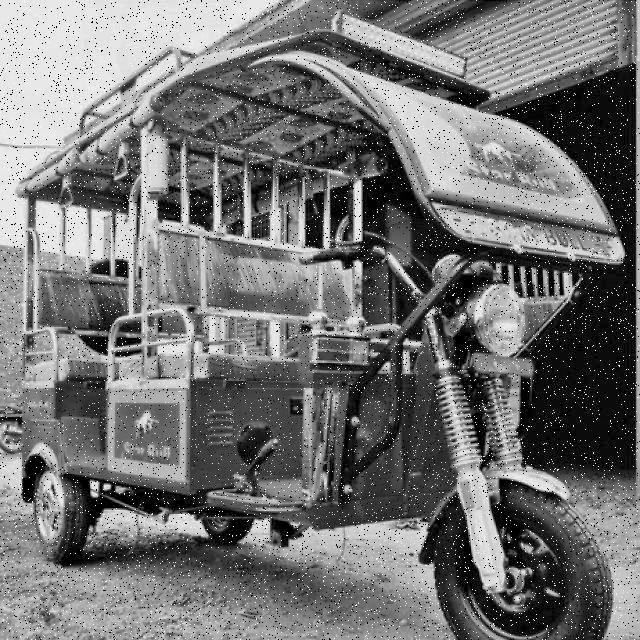Toto: (17, 36, 613, 640)
